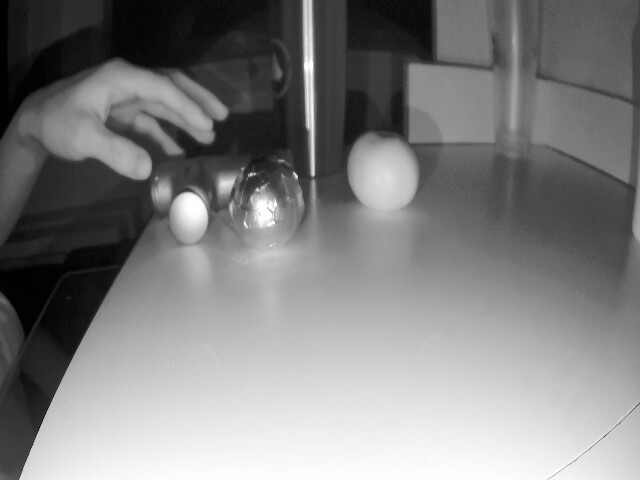silver: (219, 155, 309, 265)
